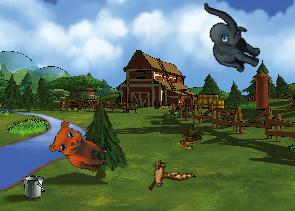bear: (46, 118, 113, 174)
eagle: (137, 147, 196, 203)
elephant: (188, 2, 271, 76)
